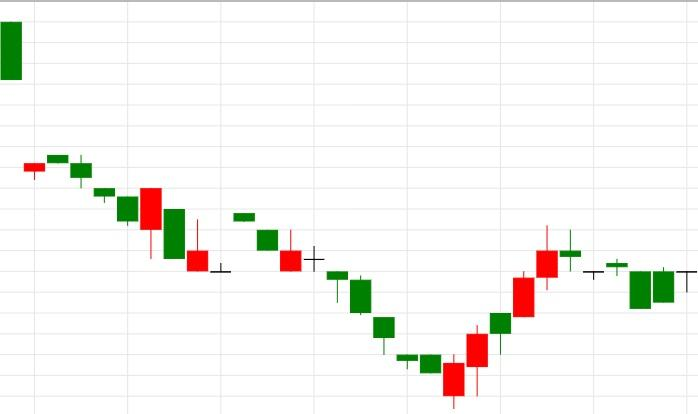bullish_engulfing_rise: (46, 154, 163, 259)
